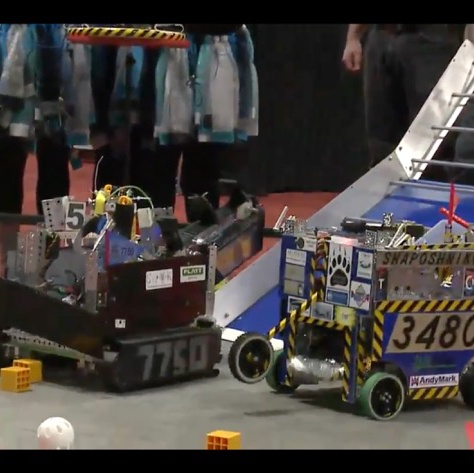robot: (223, 176, 473, 423), (0, 151, 224, 397)
